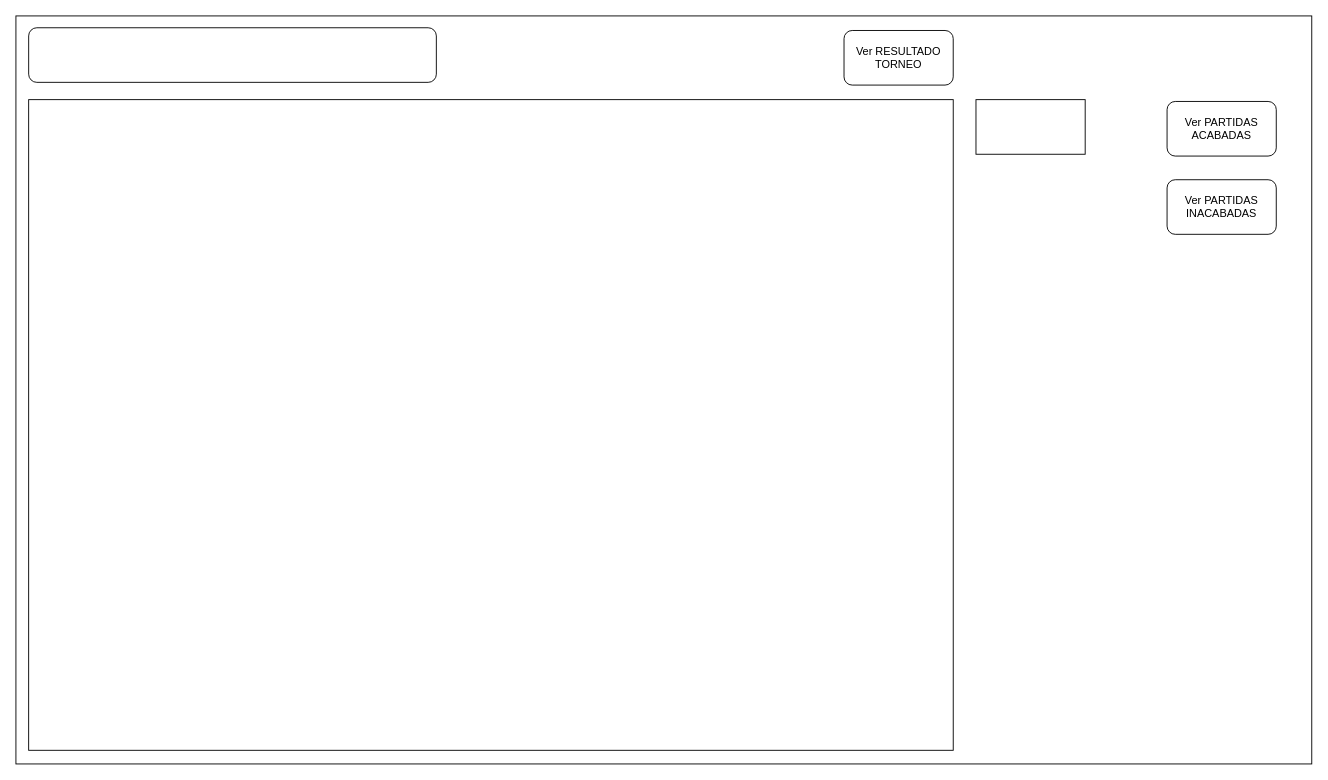
The diagram is 1328 pixels wide and 780 high, and some of its shapes have lost their labels. The centre of each missing label's shape, as x and y in pixels:
"Codigo partida" belongs at [232,54].
"ComboBoxRonda" belongs at [1030,126].
